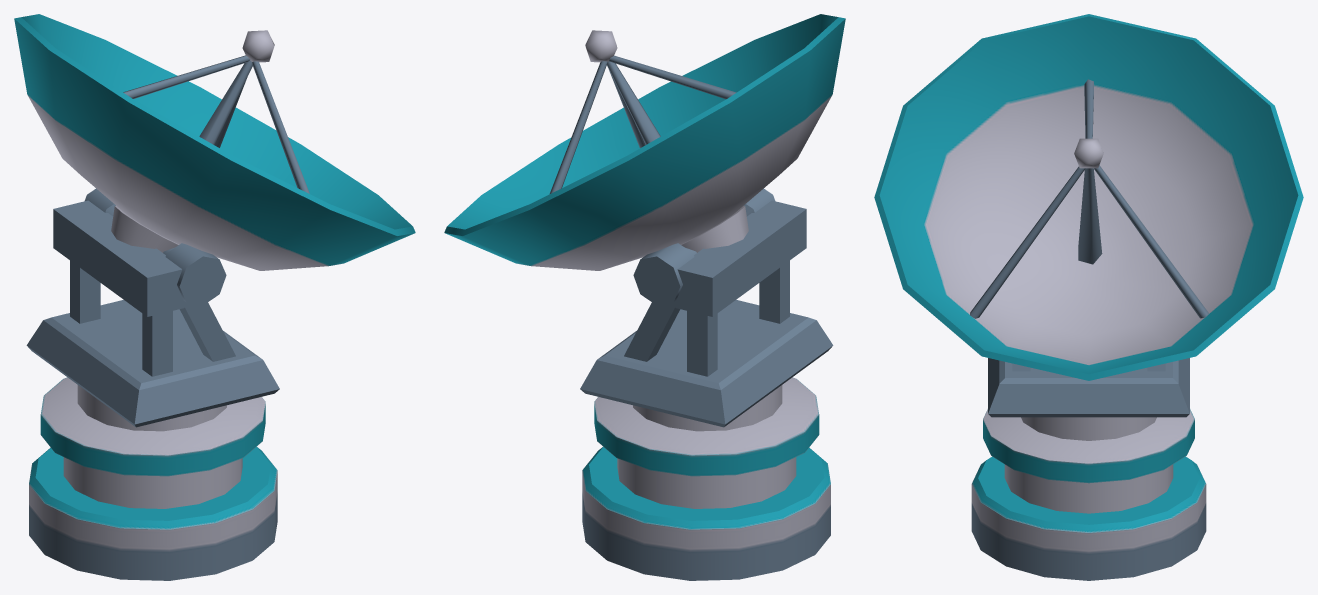
The picture shows the model from 3 angles, left to right: view 1: azimuth 30°, elevation 25°; view 2: azimuth 150°, elevation 25°; view 3: azimuth 270°, elevation 25°; orthographic projection. The views are drawn at different scales.
Visible parts, largest first — view 1: RT-70.006, RT-70, RT-70.001; view 2: RT-70.006, RT-70, RT-70.001; view 3: RT-70.006, RT-70, RT-70.001.
Boxes of the visible parts, bbox=[...] form: RT-70.006: bbox=[14, 14, 415, 305]; RT-70: bbox=[29, 377, 277, 580]; RT-70.001: bbox=[26, 200, 279, 431]; RT-70.006: bbox=[444, 14, 845, 305]; RT-70: bbox=[582, 377, 830, 580]; RT-70.001: bbox=[580, 200, 833, 431]; RT-70.006: bbox=[874, 14, 1303, 380]; RT-70: bbox=[971, 409, 1206, 580]; RT-70.001: bbox=[988, 358, 1189, 440].
Size of the model in its own units: 8.54 by 12.24 by 10.12.
1 material, 1 textured.
